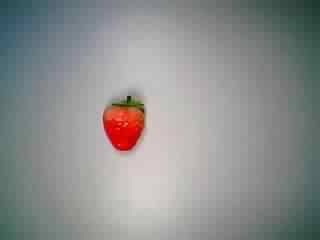strawberry: (93, 90, 155, 154)
